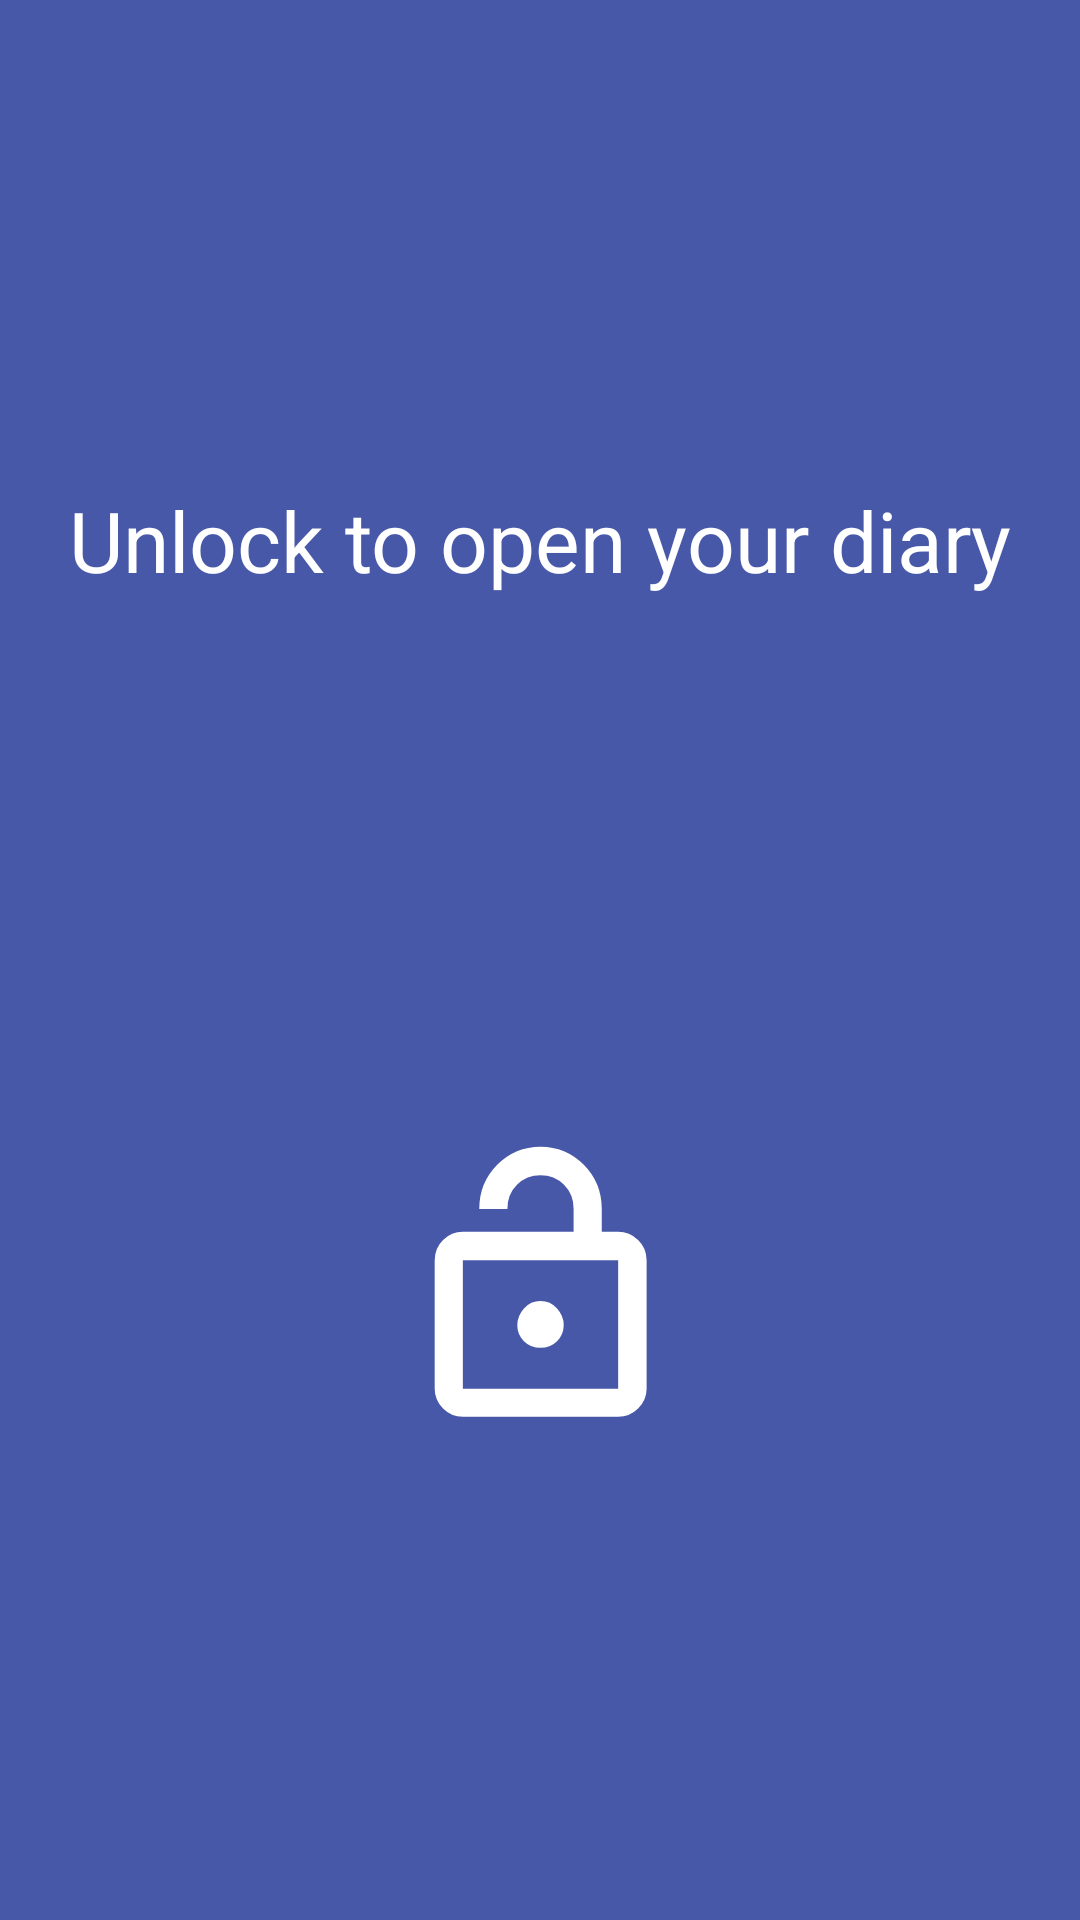

Screen size 1080 x 1920. Icon name, then its box in pixels as BBox(x1, y1, x2, y2):
lock open: BBox(434, 1146, 647, 1417)
